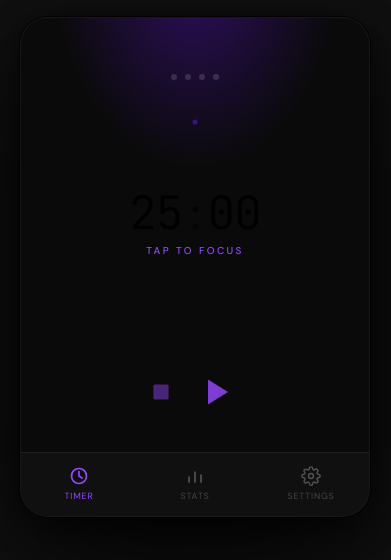
ring interaction › ring button relabels to "Resume focus" while paused
What coordinates should you click on to do the following:
click the button with aria-label "start focus"
I would click on:
 (195, 224)
Its box is [85,114,305,334].
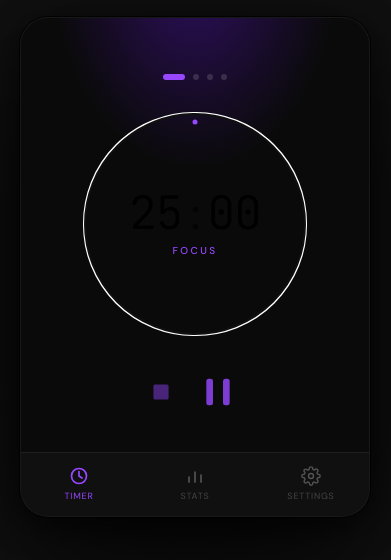
What coordinates should you click on to do the following:
click the button with aria-label "pause focus"
I would click on:
 (195, 224)
Its box is [85,114,305,334].
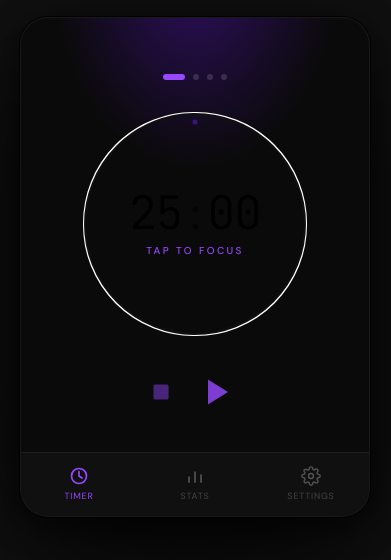
Check: the button with aria-label "resume focus" is shown, box [85,114,305,334]
